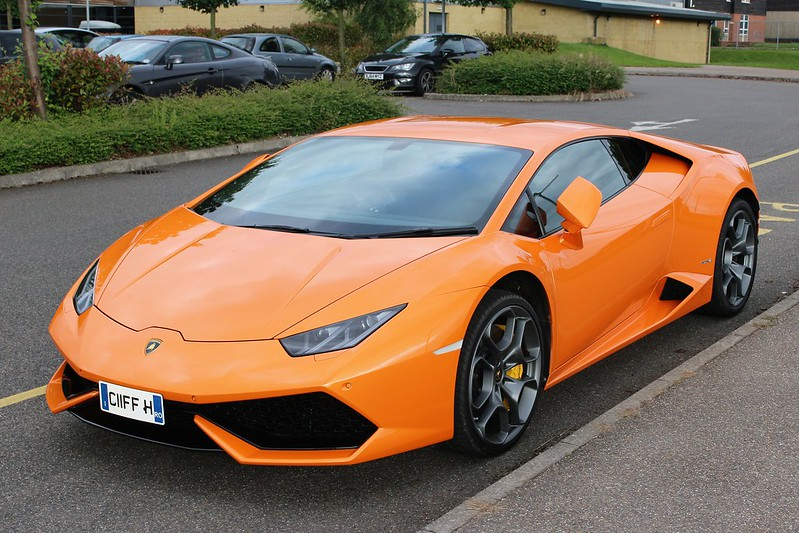car: (44, 109, 770, 468), (352, 27, 515, 99), (84, 34, 278, 94)
